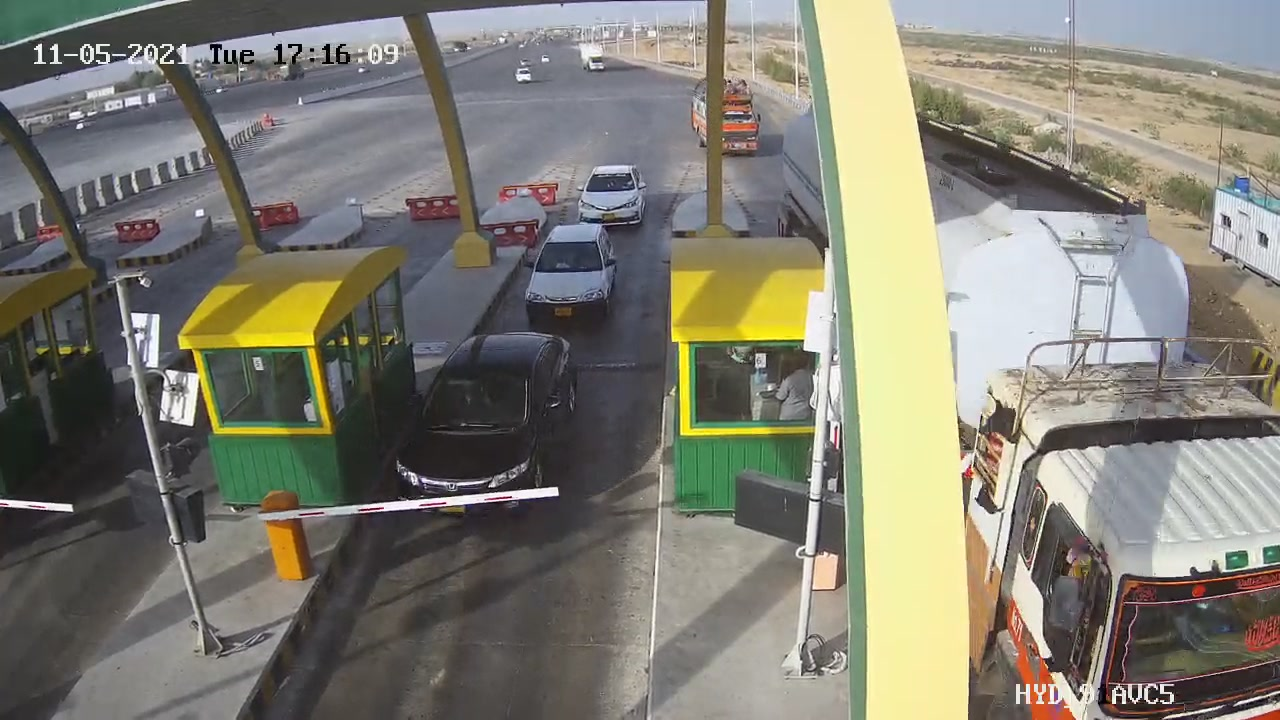F1: (383, 320, 592, 530), (512, 216, 631, 331)
